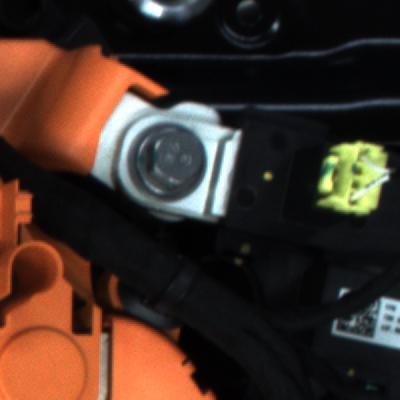nut_b: (130, 121, 220, 204)
